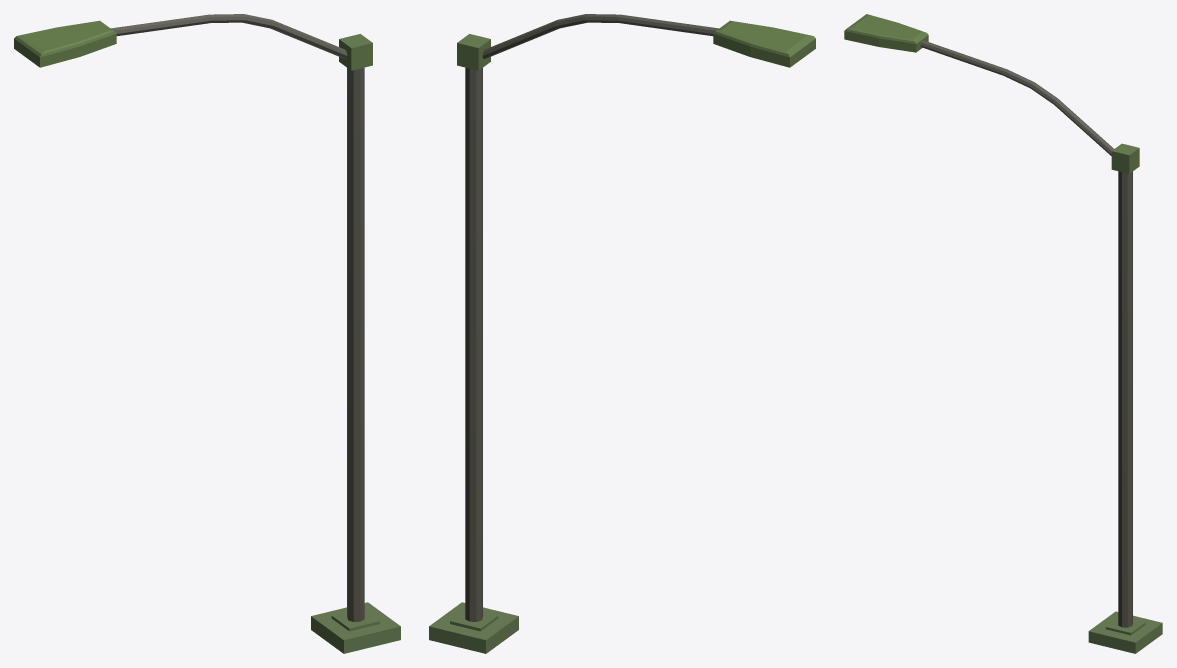
The model's file is Light_01.fbx.
3 views of the same model, side by side, from view 1: azimuth 30°, elevation 25°; view 2: azimuth 150°, elevation 25°; view 3: azimuth 330°, elevation 25° (orthographic). The views are drawn at different scales.
Parts seen in each view (by area): view 1: Light_01; view 2: Light_01; view 3: Light_01.
Boxes of the visible parts, x1,y1,x2,y2 form: Light_01: (14, 14, 400, 653); Light_01: (429, 14, 815, 653); Light_01: (844, 14, 1162, 653).
Bounding box in the file's own units: 2.6 × 4.67 × 0.4156.
